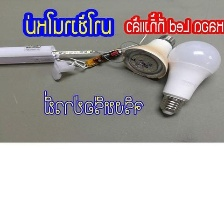light_bulb: (157, 38, 223, 120), (116, 29, 178, 85)
